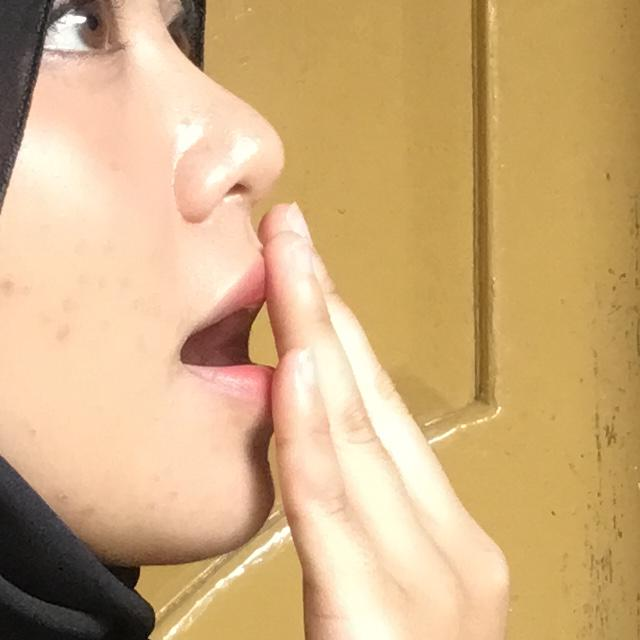ngantuk: (90, 136, 570, 640)
